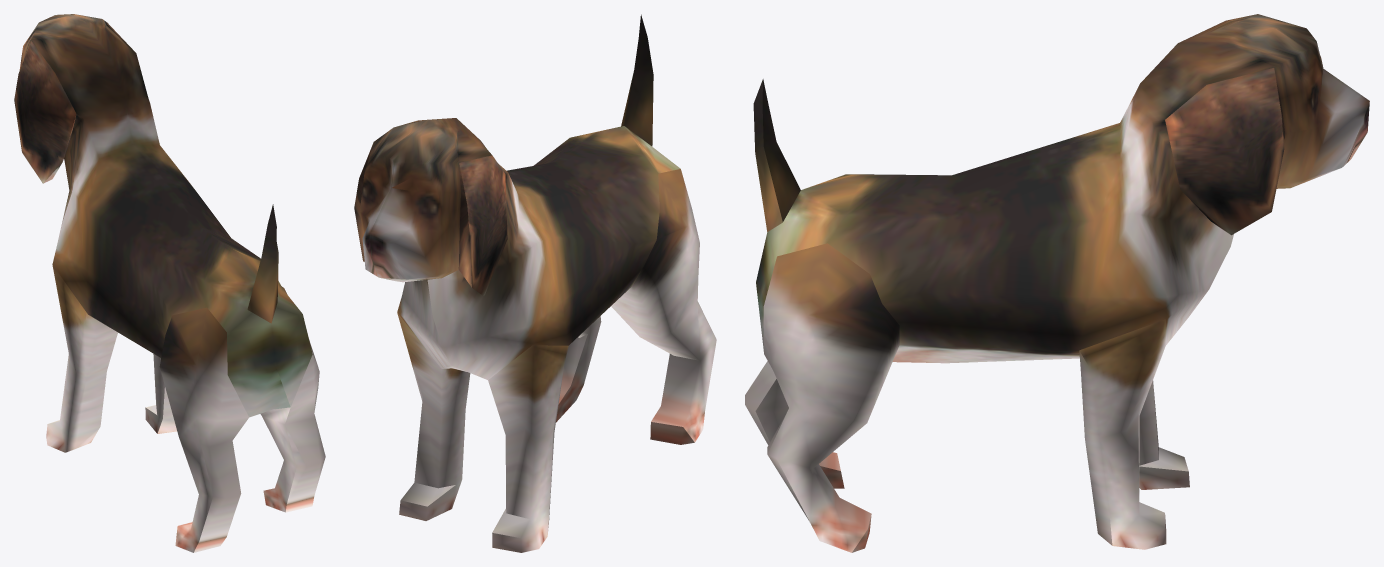
The model's file is dog.ico.obj.
3 renders of one model, left to right at view 1: azimuth 30°, elevation 25°; view 2: azimuth 150°, elevation 25°; view 3: azimuth 270°, elevation 25°, orthographic. The views are drawn at different scales.
Size of the model in its own units: 1.59 by 4.21 by 4.85.
Materials: 1 (1 with a texture image).
